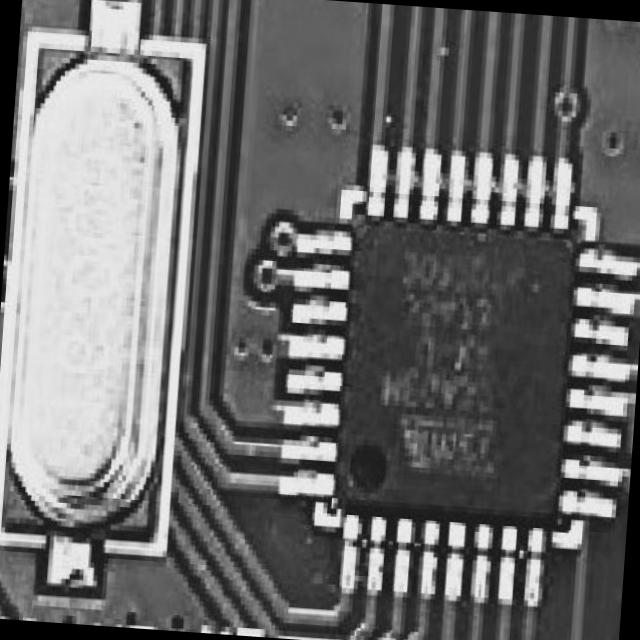IC: (294, 171, 624, 585)
